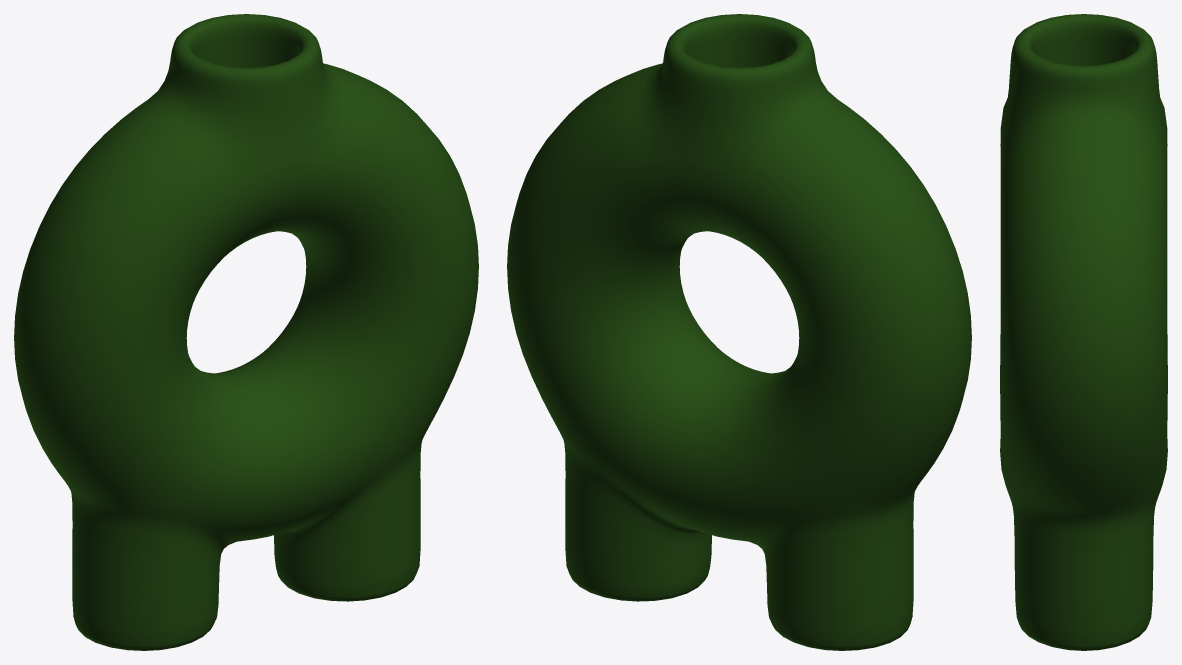
3 renders of one model, left to right at view 1: azimuth 30°, elevation 25°; view 2: azimuth 150°, elevation 25°; view 3: azimuth 270°, elevation 25°, orthographic. The views are drawn at different scales.
Parts seen in each view (by area): view 1: SKU; view 2: SKU; view 3: SKU.
Part boxes in pixels (bbox=[...]): SKU: bbox=[14, 14, 478, 650]; SKU: bbox=[507, 14, 971, 650]; SKU: bbox=[1000, 14, 1167, 650].
Size of the model in its own units: 0.5903 by 0.7145 by 0.2022.
